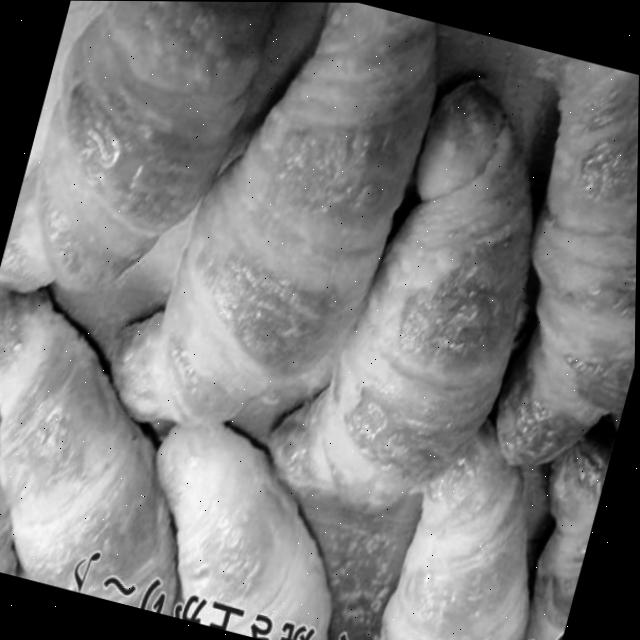面包点心: (240, 33, 602, 569)
